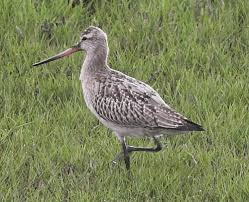Walking: (26, 12, 214, 186)
